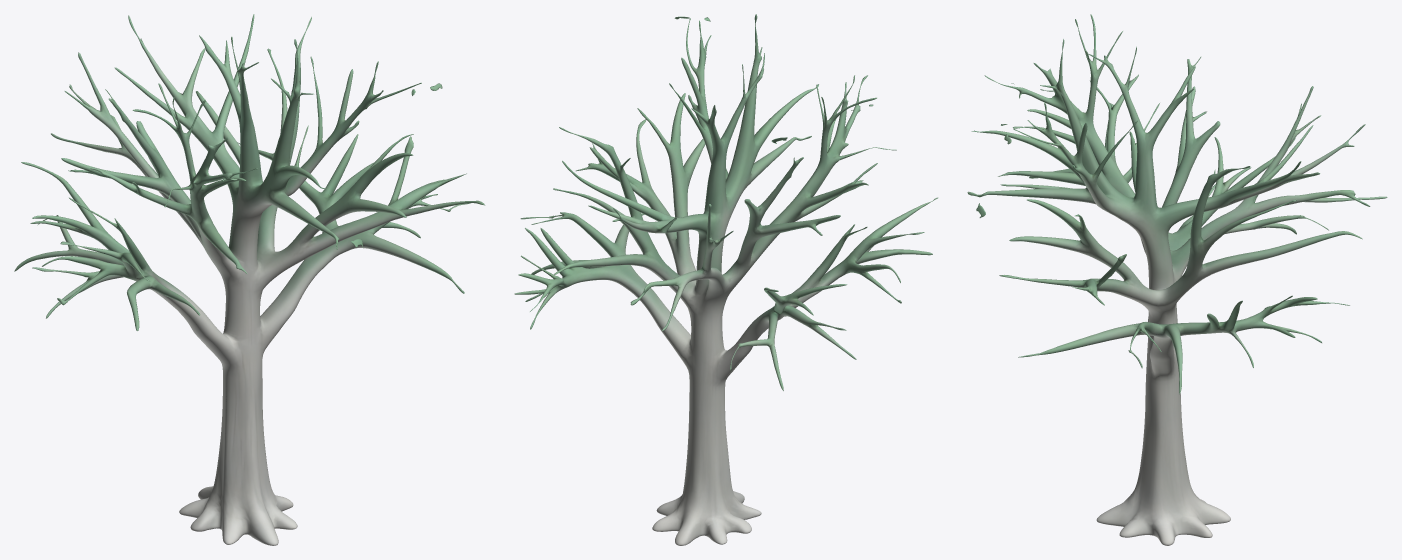
Rendered from alder.glb.
3 views of the same model, side by side, from view 1: azimuth 30°, elevation 25°; view 2: azimuth 150°, elevation 25°; view 3: azimuth 270°, elevation 25° (orthographic). The views are drawn at different scales.
Visible parts, largest first — view 1: model; view 2: model; view 3: model.
Part boxes in pixels (x1=…): model: x1=14, y1=14, x2=485, y2=545; model: x1=514, y1=14, x2=938, y2=545; model: x1=967, y1=14, x2=1387, y2=545.
Bounding box in the file's own units: 1.62 × 1.89 × 1.48.
Materials: 1 (1 with a texture image).
